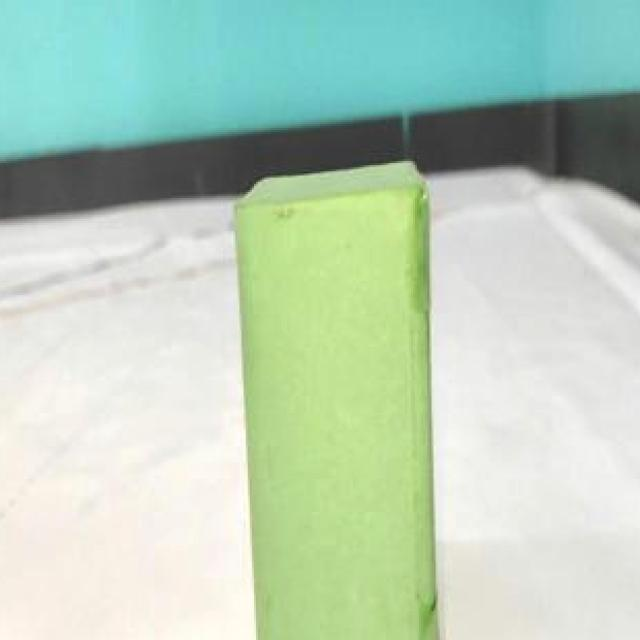greenbox: (232, 155, 434, 640)
